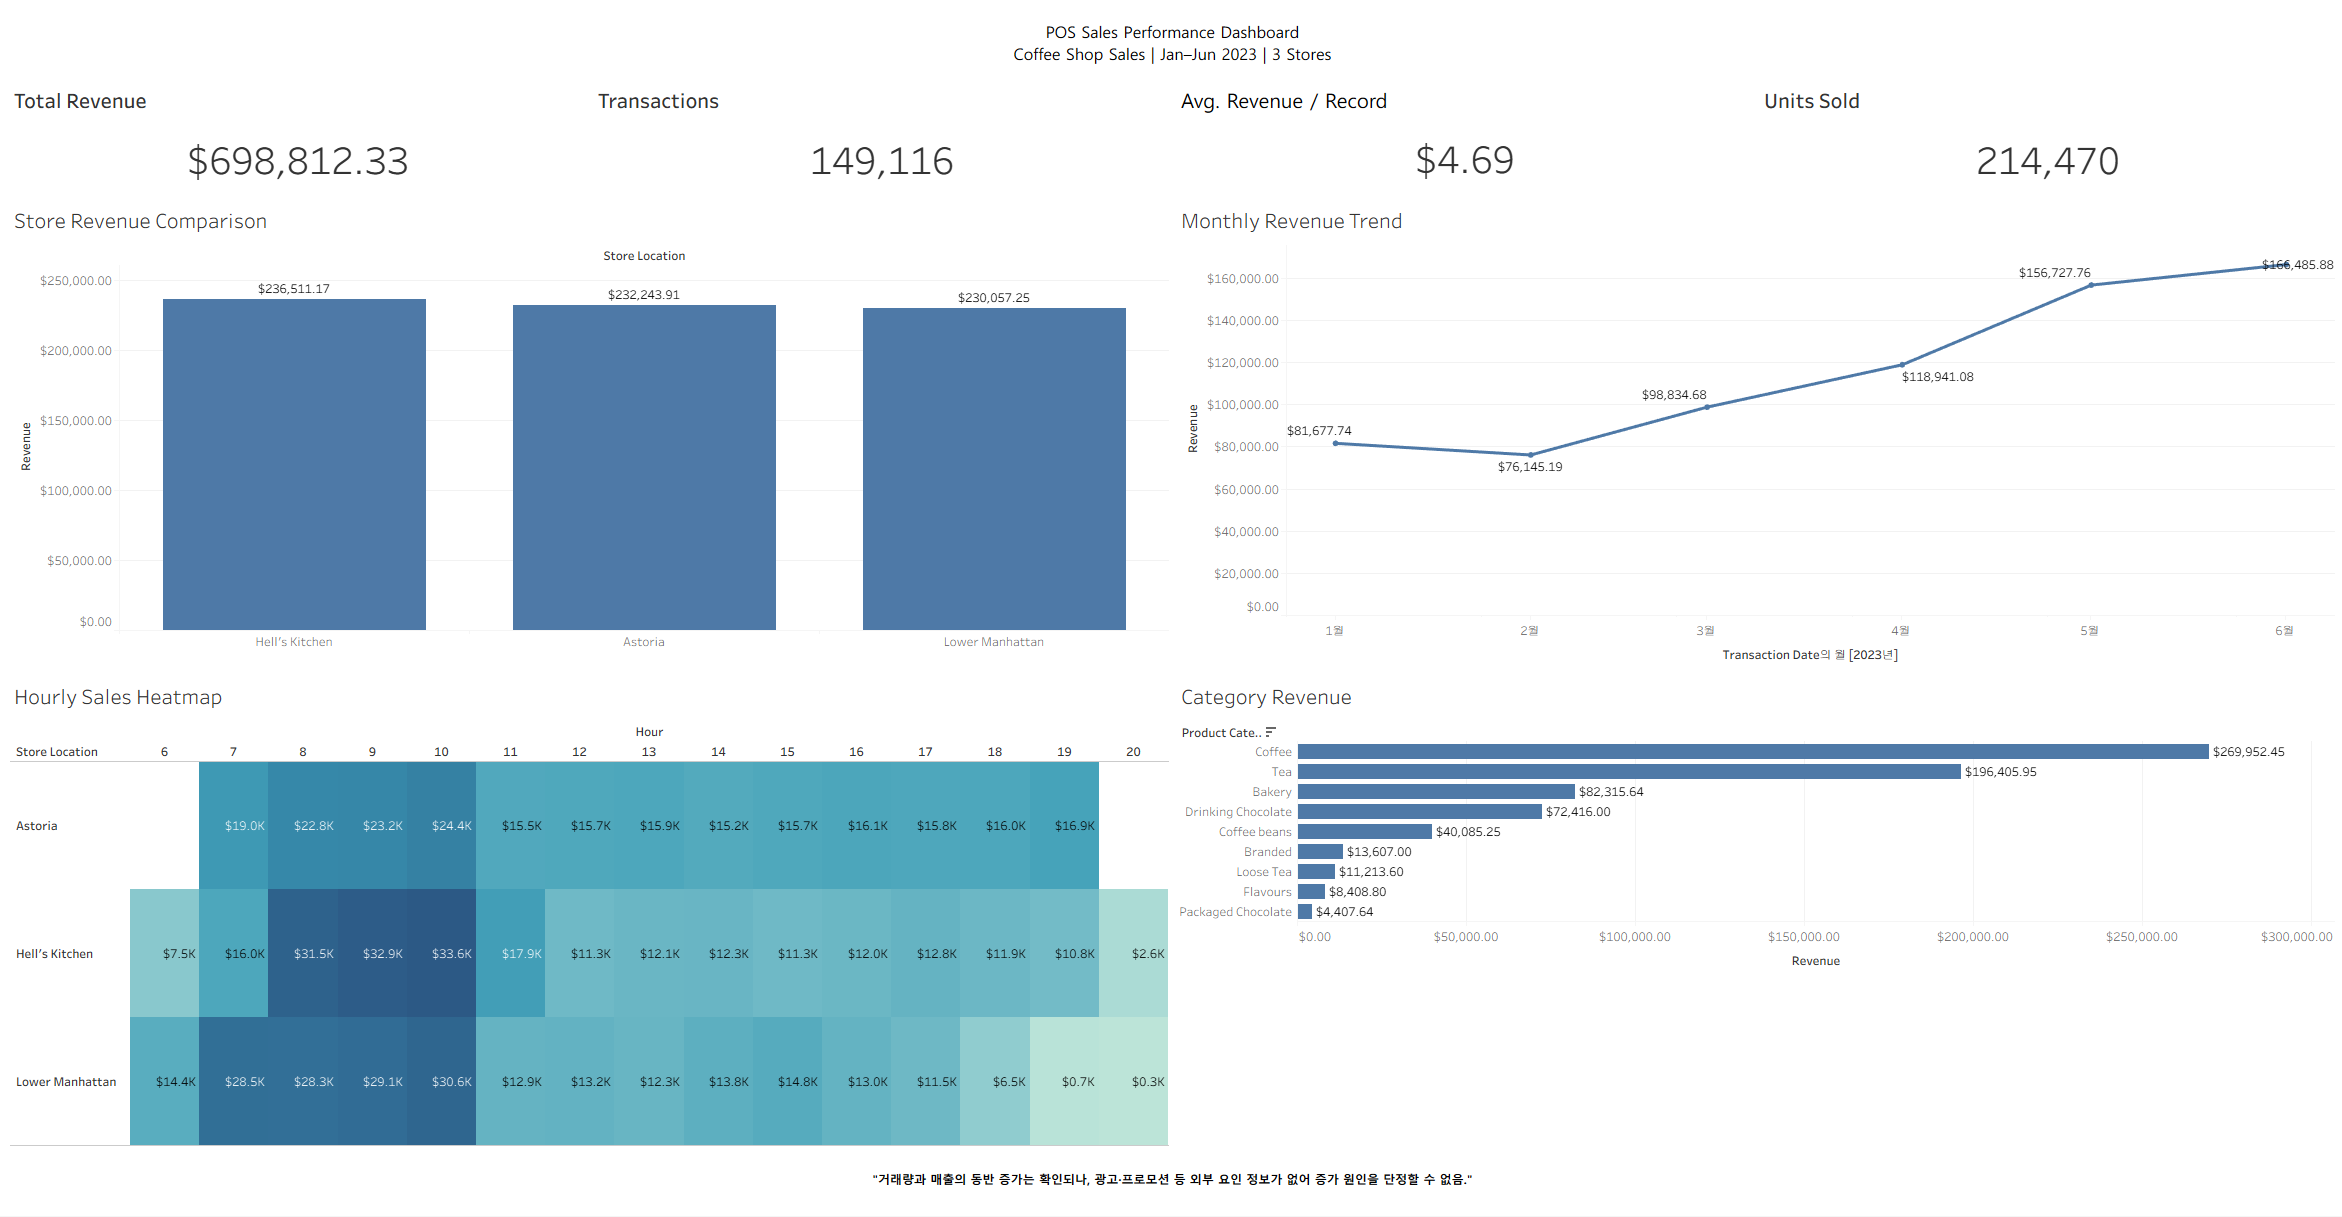

This screenshot's page, from the dashboard's own definition file:
{"tool":"tableau","page":{"name":"POS Sales Performance Dashboard","canvas":[1000,1000],"units":"permille","ordinal":0},"visuals":[{"type":"text","box":[4.7,8.6,990.6,57.7]},{"type":"worksheet","title":"KPI_Total_Revenue","mark":"Text","box":[4.7,65.8,248.1,98.2]},{"type":"worksheet","title":"KPI_Transactions","mark":"Text","box":[252.8,65.8,247.5,98.2]},{"type":"worksheet","title":"KPI_Avg_Value","mark":"Text","box":[500.3,65.8,247.5,98.2]},{"type":"worksheet","title":"KPI_Units_Sold","mark":"Text","box":[747.8,65.8,247.5,98.2]},{"type":"worksheet","title":"01_Store_Revenue","mark":"Automatic","rows":["Calculation_1802709891620865"],"cols":["store_location"],"box":[4.7,164,495.7,390]},{"type":"worksheet","title":"02_Monthly_Revenue","mark":"Line","rows":["Calculation_1802709891620865"],"cols":["transaction_date"],"box":[500.4,164,494.9,390]},{"type":"worksheet","title":"03_Hourly_Heatmap","mark":"Square","rows":["store_location"],"cols":["Calculation_1802709898428418"],"box":[4.7,553.9,495.7,390]},{"type":"worksheet","title":"04_Category_Revenue","mark":"Bar","rows":["product_category"],"cols":["Calculation_1802709891620865"],"box":[500.4,553.9,494.9,390]},{"type":"text","box":[4.7,943.9,990.6,47.5]}]}

Visuals, with their boxes on the dashboard's canvas, which has no fixed pixel size, in thousandths of its width and height (x1, y1, x2, y2). These are canvas units, not pixel positions in the 2342x1217 screenshot, which may show the page scaled, cropped or inside an application window:
text: [5,9,995,66]
"KPI_Total_Revenue" worksheet (Text marks): [5,66,253,164]
"KPI_Transactions" worksheet (Text marks): [253,66,500,164]
"KPI_Avg_Value" worksheet (Text marks): [500,66,748,164]
"KPI_Units_Sold" worksheet (Text marks): [748,66,995,164]
"01_Store_Revenue" worksheet: [5,164,500,554]
"02_Monthly_Revenue" worksheet (Line marks): [500,164,995,554]
"03_Hourly_Heatmap" worksheet (Square marks): [5,554,500,944]
"04_Category_Revenue" worksheet (Bar marks): [500,554,995,944]
text: [5,944,995,991]
